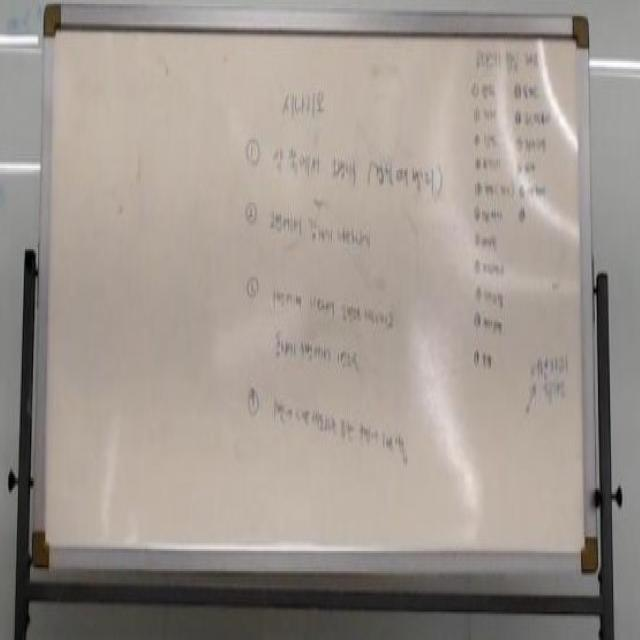White-board: (41, 16, 592, 561)
